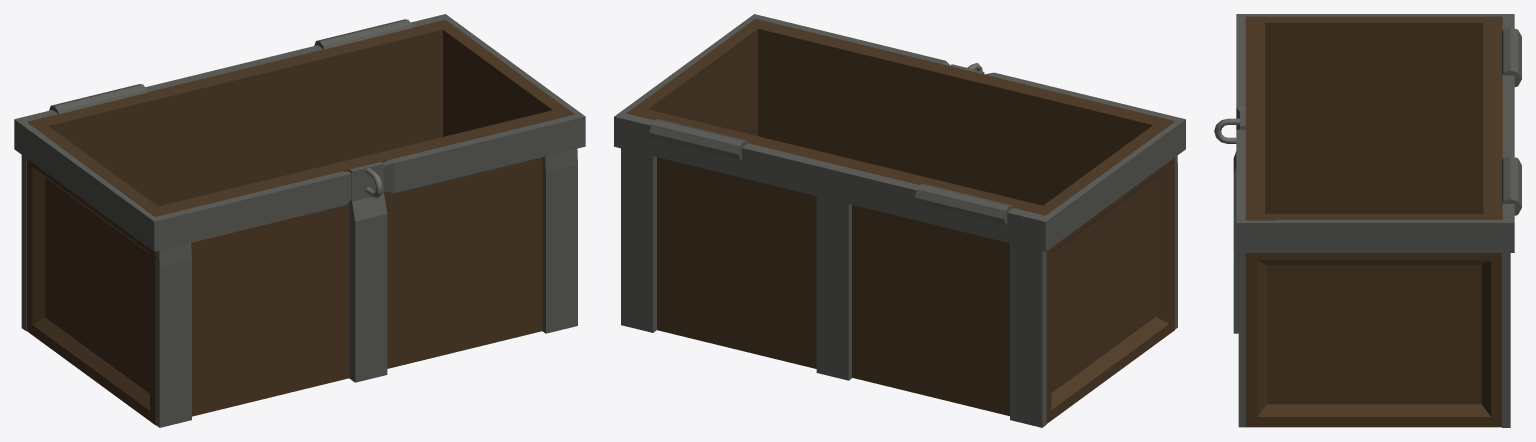
The model's file is Chest.glb.
The picture shows the model from 3 angles, left to right: view 1: azimuth 30°, elevation 25°; view 2: azimuth 150°, elevation 25°; view 3: azimuth 270°, elevation 25°; orthographic projection.
Visible parts, largest first — view 1: Chest.001; view 2: Chest.001; view 3: Chest.001.
Part boxes in pixels (x1=…): Chest.001: x1=14, y1=14, x2=585, y2=427; Chest.001: x1=614, y1=14, x2=1185, y2=427; Chest.001: x1=1214, y1=14, x2=1521, y2=427.
Size of the model in its own units: 0.9805 by 0.466 by 0.6098.
3 materials, 3 textured.
